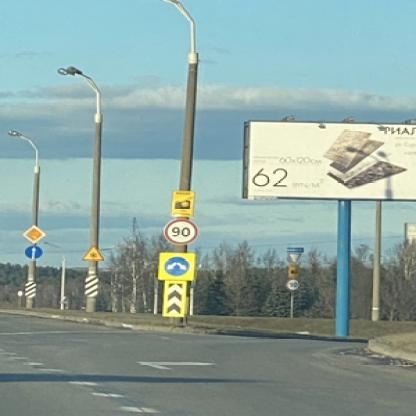speedlimit: (162, 218, 196, 242), (284, 279, 298, 290)
